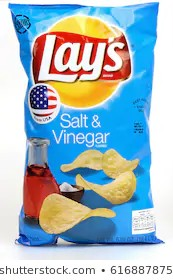lays-med: (10, 1, 162, 246)
